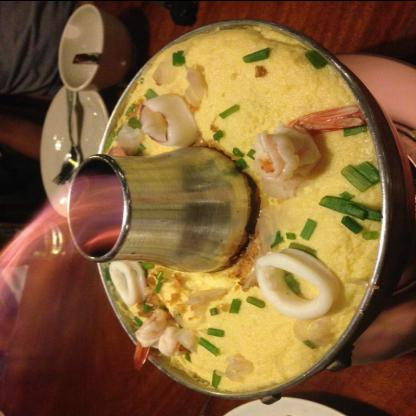Kaithoon: (88, 26, 386, 391)
